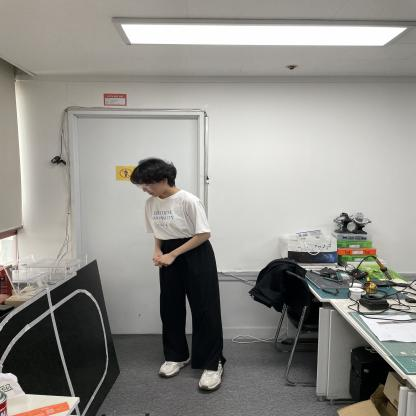normal: (129, 149, 242, 392)
